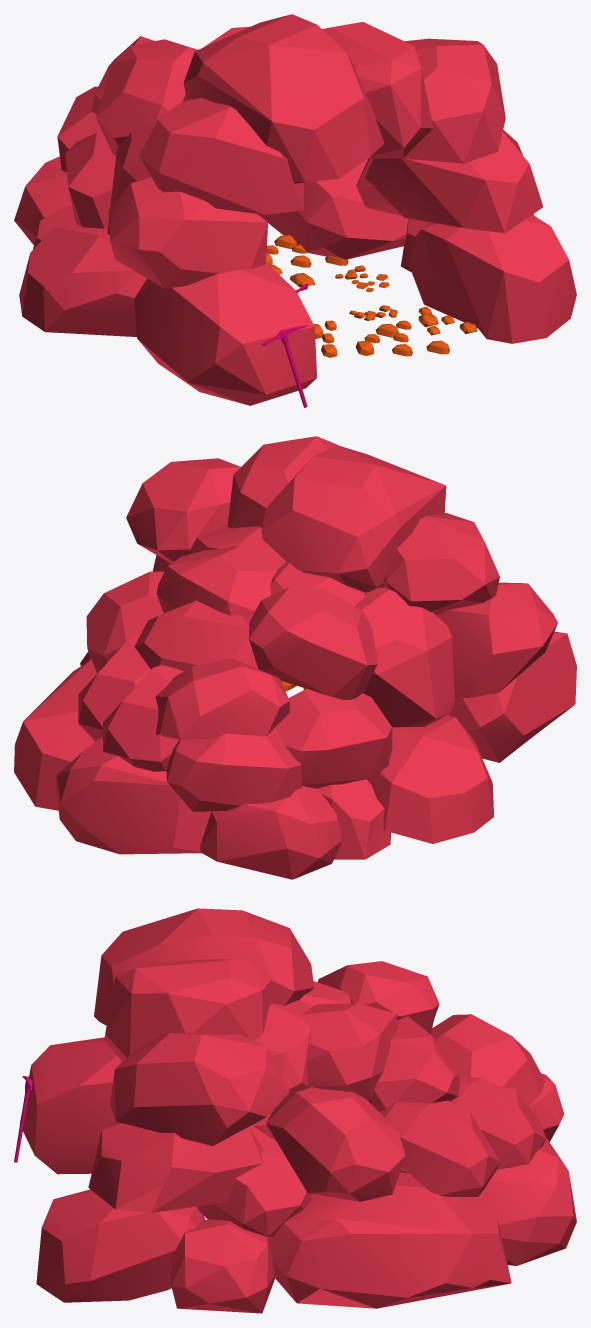
The model's file is Goldmine_Updatedfbx.fbx.
3 views of the same model, one above another, from view 1: azimuth 30°, elevation 25°; view 2: azimuth 150°, elevation 25°; view 3: azimuth 270°, elevation 25° (orthographic). The views are drawn at different scales.
Visible parts, largest first — view 1: Cube, Cube.003, Cube.001; view 2: Cube; view 3: Cube.
Part boxes in pixels (box(x1,y1,x2,y2)): Cube: box(14, 14, 576, 405); Cube.003: box(266, 235, 477, 357); Cube.001: box(261, 283, 308, 407); Cube: box(14, 436, 576, 879); Cube: box(19, 908, 576, 1313).
Bounding box in the file's own units: 4.31 × 2.63 × 4.66.
